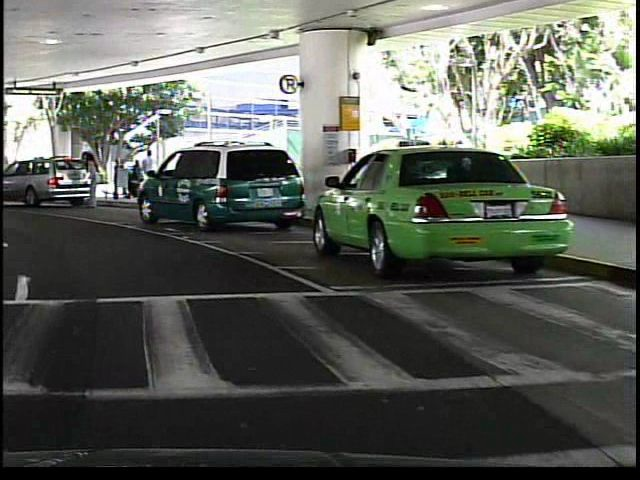person: (80, 150, 99, 208)
